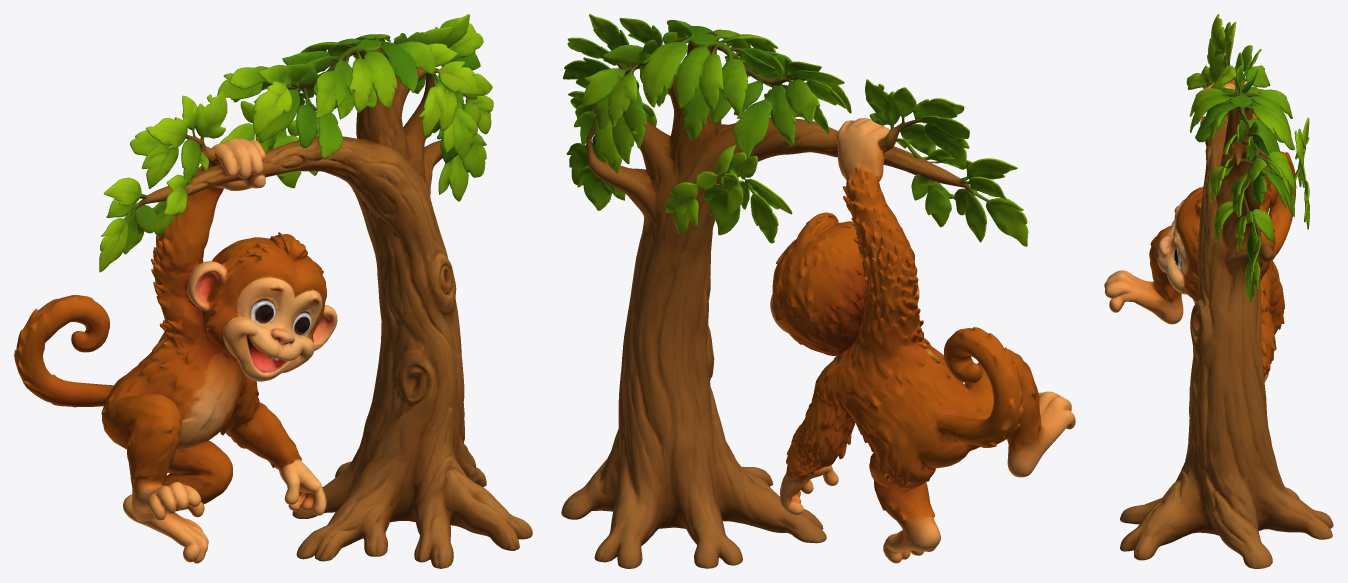
File: monkey3d.glb
The picture shows the model from 3 angles, left to right: view 1: azimuth 30°, elevation 25°; view 2: azimuth 150°, elevation 25°; view 3: azimuth 270°, elevation 25°; orthographic projection. The views are drawn at different scales.
Visible parts, largest first — view 1: tripo_node_c2d32f2f-61ad-4293-99fa-f7c1f081d5df; view 2: tripo_node_c2d32f2f-61ad-4293-99fa-f7c1f081d5df; view 3: tripo_node_c2d32f2f-61ad-4293-99fa-f7c1f081d5df.
Part boxes in pixels (x1,y1,x2,y2): tripo_node_c2d32f2f-61ad-4293-99fa-f7c1f081d5df: [14, 14, 532, 568]; tripo_node_c2d32f2f-61ad-4293-99fa-f7c1f081d5df: [561, 14, 1075, 568]; tripo_node_c2d32f2f-61ad-4293-99fa-f7c1f081d5df: [1104, 14, 1333, 568].
Bounding box in the file's own units: 0.9969 × 0.9999 × 0.4972.
1 material, 1 textured.
